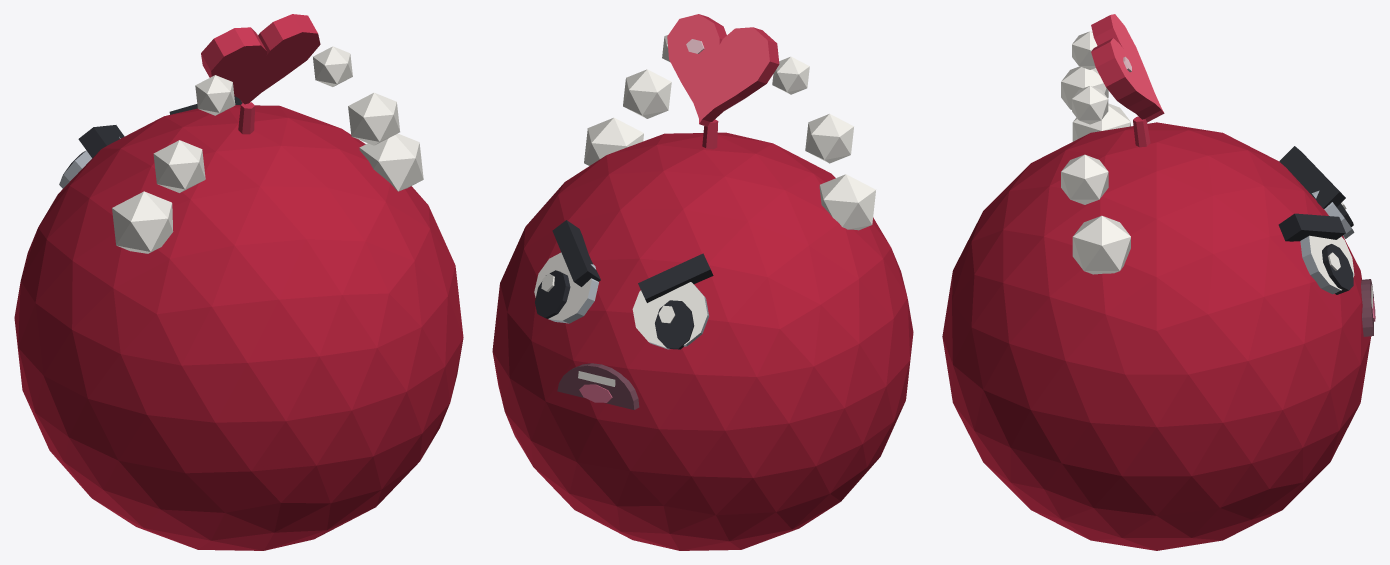
Rendered from CH_Cano_T5.fbx.
3 renders of one model, left to right at view 1: azimuth 30°, elevation 25°; view 2: azimuth 150°, elevation 25°; view 3: azimuth 270°, elevation 25°, orthographic. The views are drawn at different scales.
Visible parts, largest first — view 1: CH_Cano_T5; view 2: CH_Cano_T5; view 3: CH_Cano_T5.
Part boxes in pixels (bbox=[...]): CH_Cano_T5: bbox=[14, 14, 463, 550]; CH_Cano_T5: bbox=[492, 14, 913, 550]; CH_Cano_T5: bbox=[942, 14, 1375, 550].
Bounding box in the file's own units: 1 × 1.29 × 1.01.
